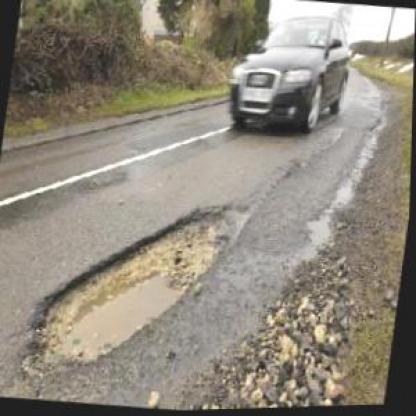pothole: (28, 184, 254, 378)
